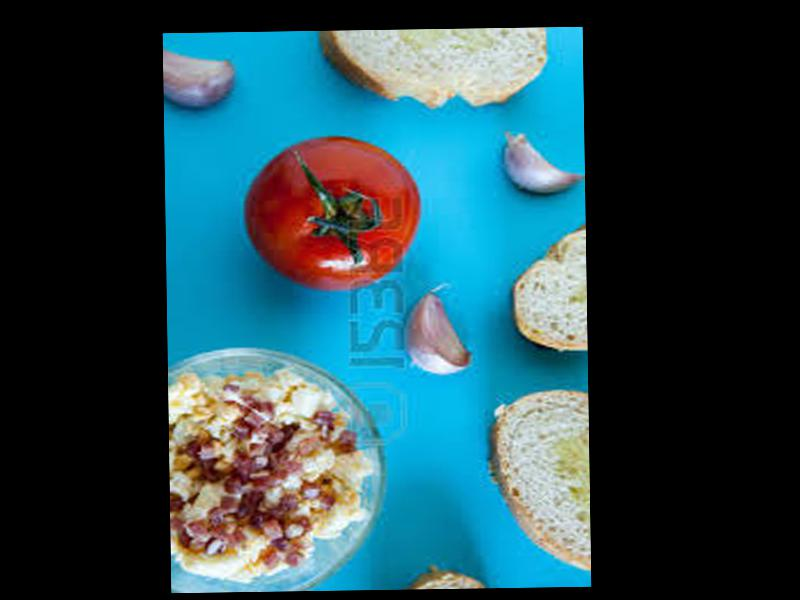Tomato: (244, 134, 423, 286)
